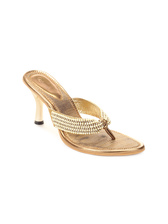shoes: (18, 69, 146, 159)
